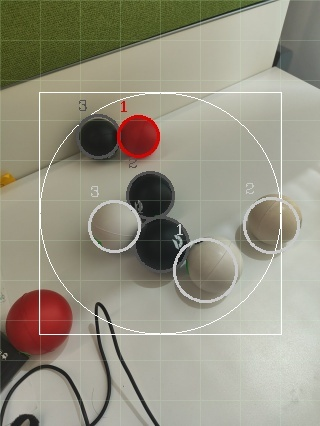Pelota blanca: (0, 363, 86, 425), (172, 236, 243, 310), (273, 0, 320, 89), (239, 193, 302, 256), (87, 198, 142, 254)
Pelota negra: (135, 214, 190, 272), (124, 169, 177, 219), (76, 113, 118, 160)
Pelota roja: (4, 286, 73, 355), (116, 113, 161, 160)
